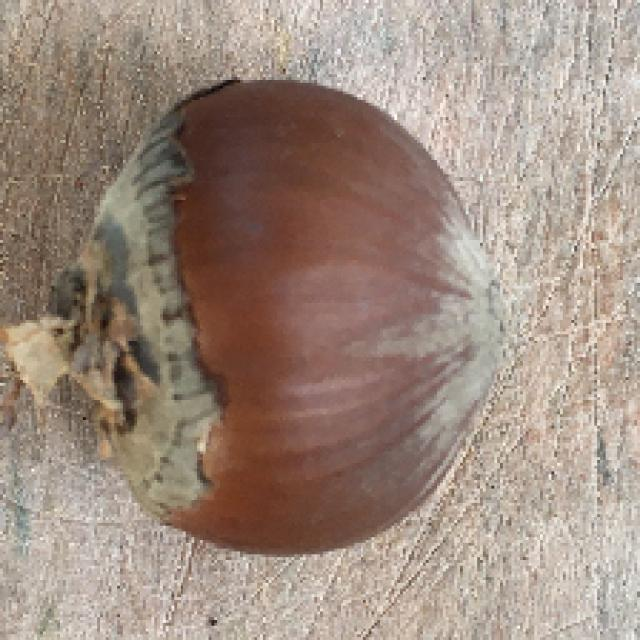damagedHazelnut: (15, 70, 507, 560)
